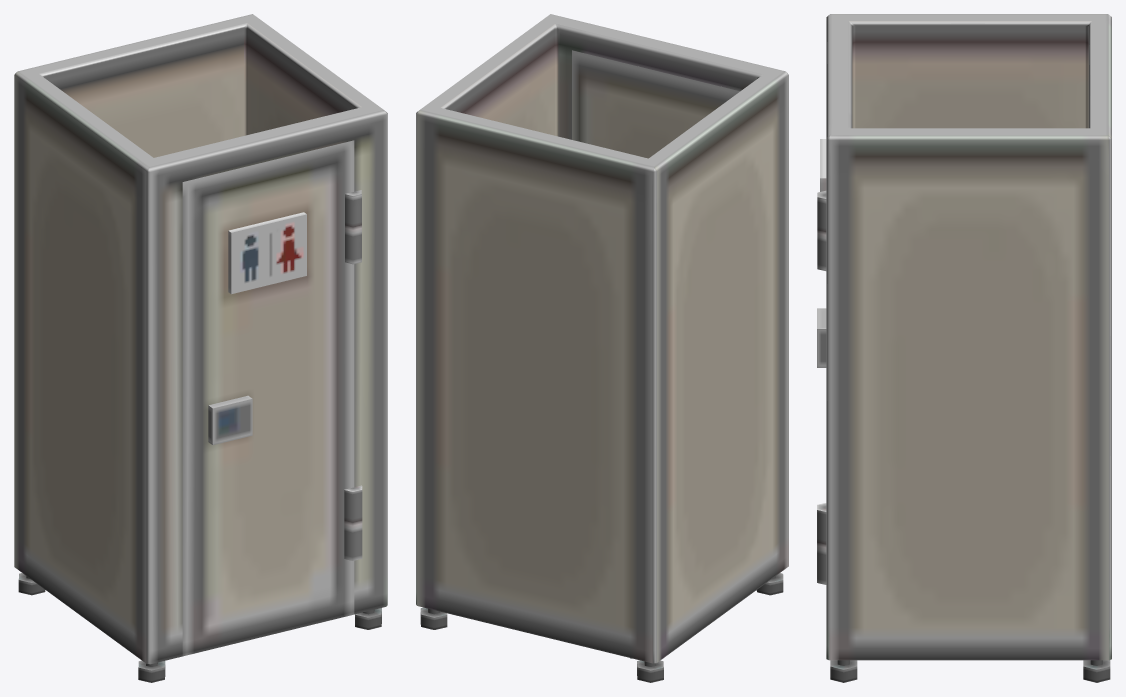
The model's file is int_oth_wc_room.dae.
The picture shows the model from 3 angles, left to right: view 1: azimuth 30°, elevation 25°; view 2: azimuth 150°, elevation 25°; view 3: azimuth 270°, elevation 25°; orthographic projection. The views are drawn at different scales.
Parts seen in each view (by area): view 1: int_oth_wc_room; view 2: int_oth_wc_room; view 3: int_oth_wc_room.
Part boxes in pixels (x1=…): int_oth_wc_room: x1=14, y1=14, x2=387, y2=682; int_oth_wc_room: x1=416, y1=14, x2=788, y2=682; int_oth_wc_room: x1=817, y1=14, x2=1111, y2=682.
Bounding box in the file's own units: 31.17 × 63.48 × 30.92.
3 materials, 3 textured.
